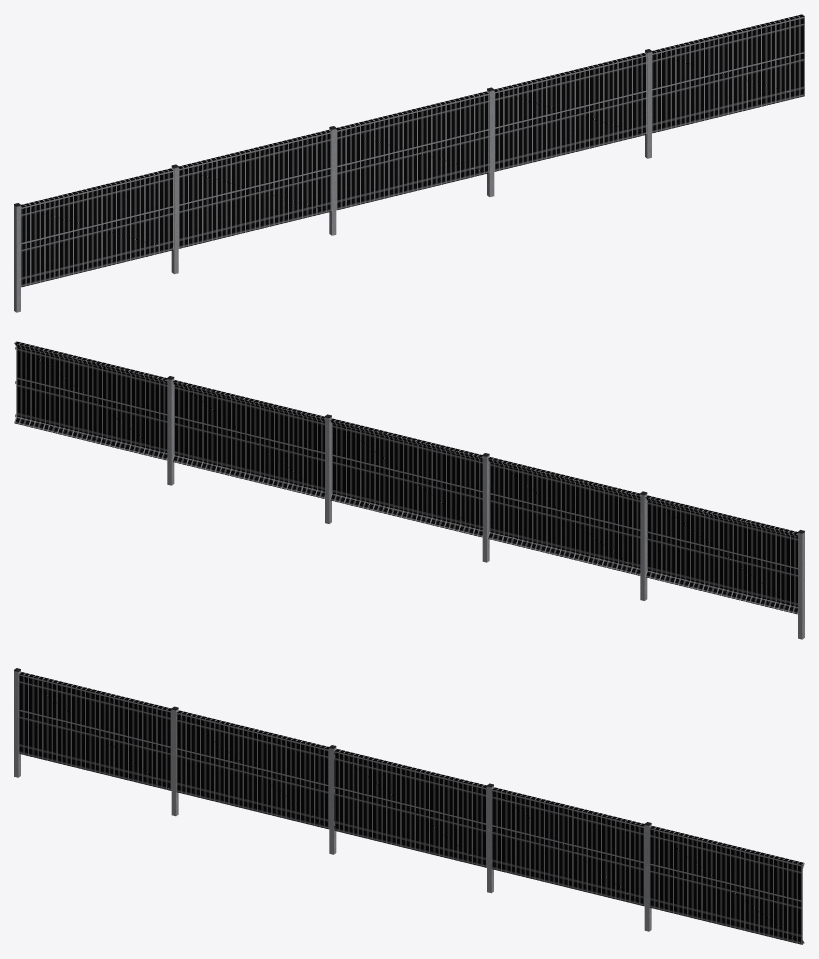
File: fence-mesh-grey-5s-cbj_LOD00.gltf
3 views of the same model, one above another, from view 1: azimuth 30°, elevation 25°; view 2: azimuth 150°, elevation 25°; view 3: azimuth 330°, elevation 25° (orthographic).
Parts seen in each view (by area): view 1: post; view 2: post; view 3: post.
Boxes of the visible parts, <box> form: post: <box>14,14,804,312</box>; post: <box>14,341,804,639</box>; post: <box>14,668,804,944</box>.
Bounding box in the file's own units: 12.35 × 1.6 × 0.0702.
